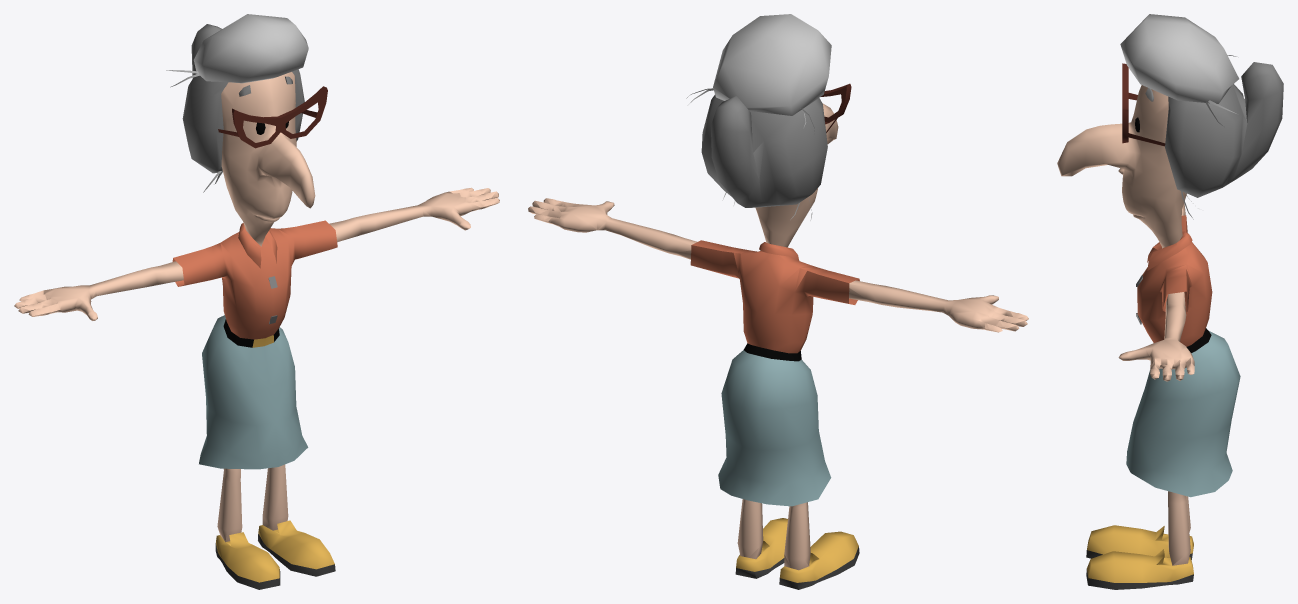
Rendered from missfowl.obj.
The picture shows the model from 3 angles, left to right: view 1: azimuth 30°, elevation 25°; view 2: azimuth 150°, elevation 25°; view 3: azimuth 270°, elevation 25°; orthographic projection. The views are drawn at different scales.
Parts seen in each view (by area): view 1: Material_#45; view 2: Material_#45; view 3: Material_#45.
Part boxes in pixels (x1,y1,x2,y2): Material_#45: (14,14,499,589); Material_#45: (528,14,1028,589); Material_#45: (1057,14,1283,589).
Size of the model in its own units: 18.14 by 19.26 by 7.25.
Materials: 1 (1 with a texture image).
